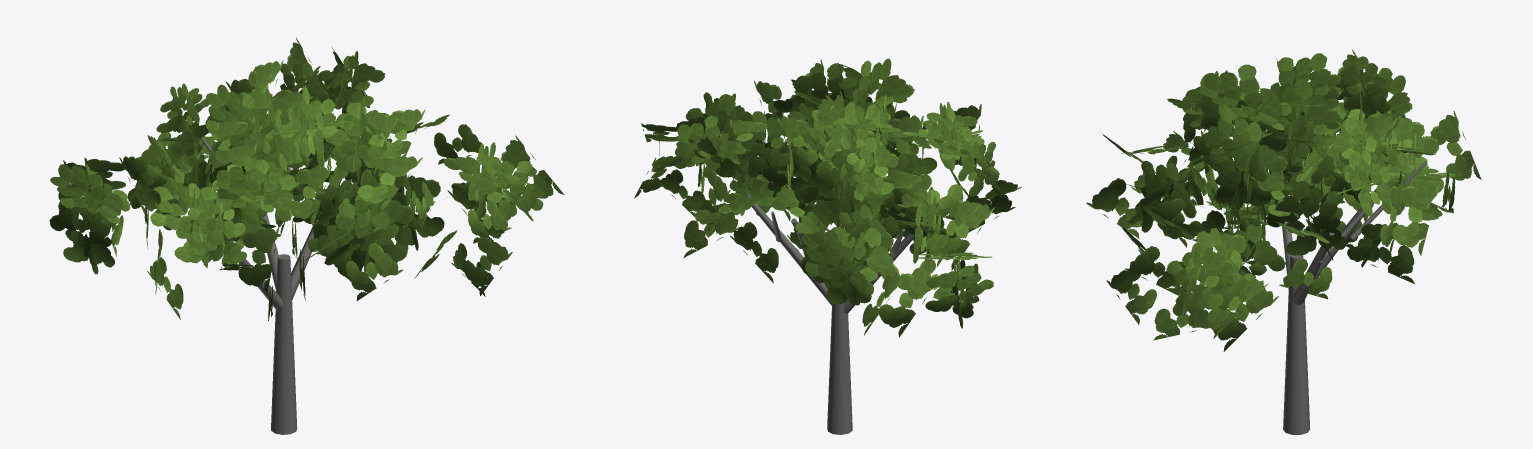
Rendered from ardennes-beech.glb.
3 renders of one model, left to right at view 1: azimuth 30°, elevation 25°; view 2: azimuth 150°, elevation 25°; view 3: azimuth 270°, elevation 25°, orthographic. The views are drawn at different scales.
Visible parts, largest first — view 1: ardennes-beech; view 2: ardennes-beech; view 3: ardennes-beech.
Boxes of the visible parts, x1,y1,x2,y2 form: ardennes-beech: [49, 37, 564, 434]; ardennes-beech: [634, 58, 1021, 434]; ardennes-beech: [1086, 49, 1481, 434].
Size of the model in its own units: 9.25 by 7.48 by 7.58.
3 materials, 2 textured.
